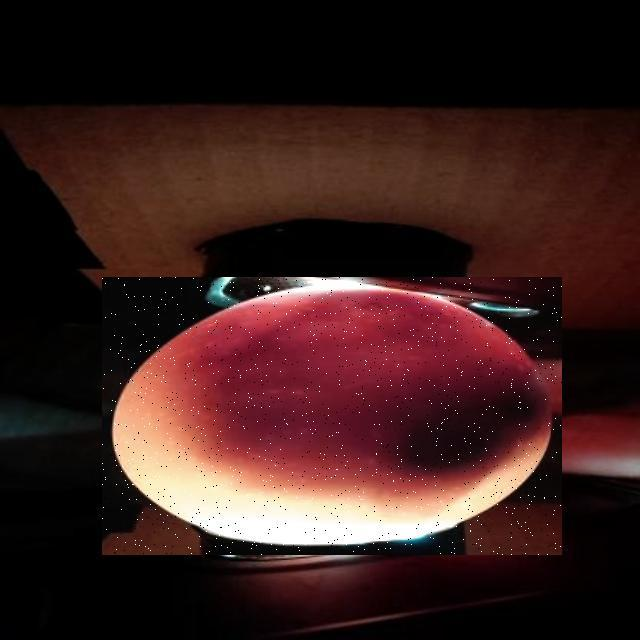Infertile: (102, 277, 562, 555)
